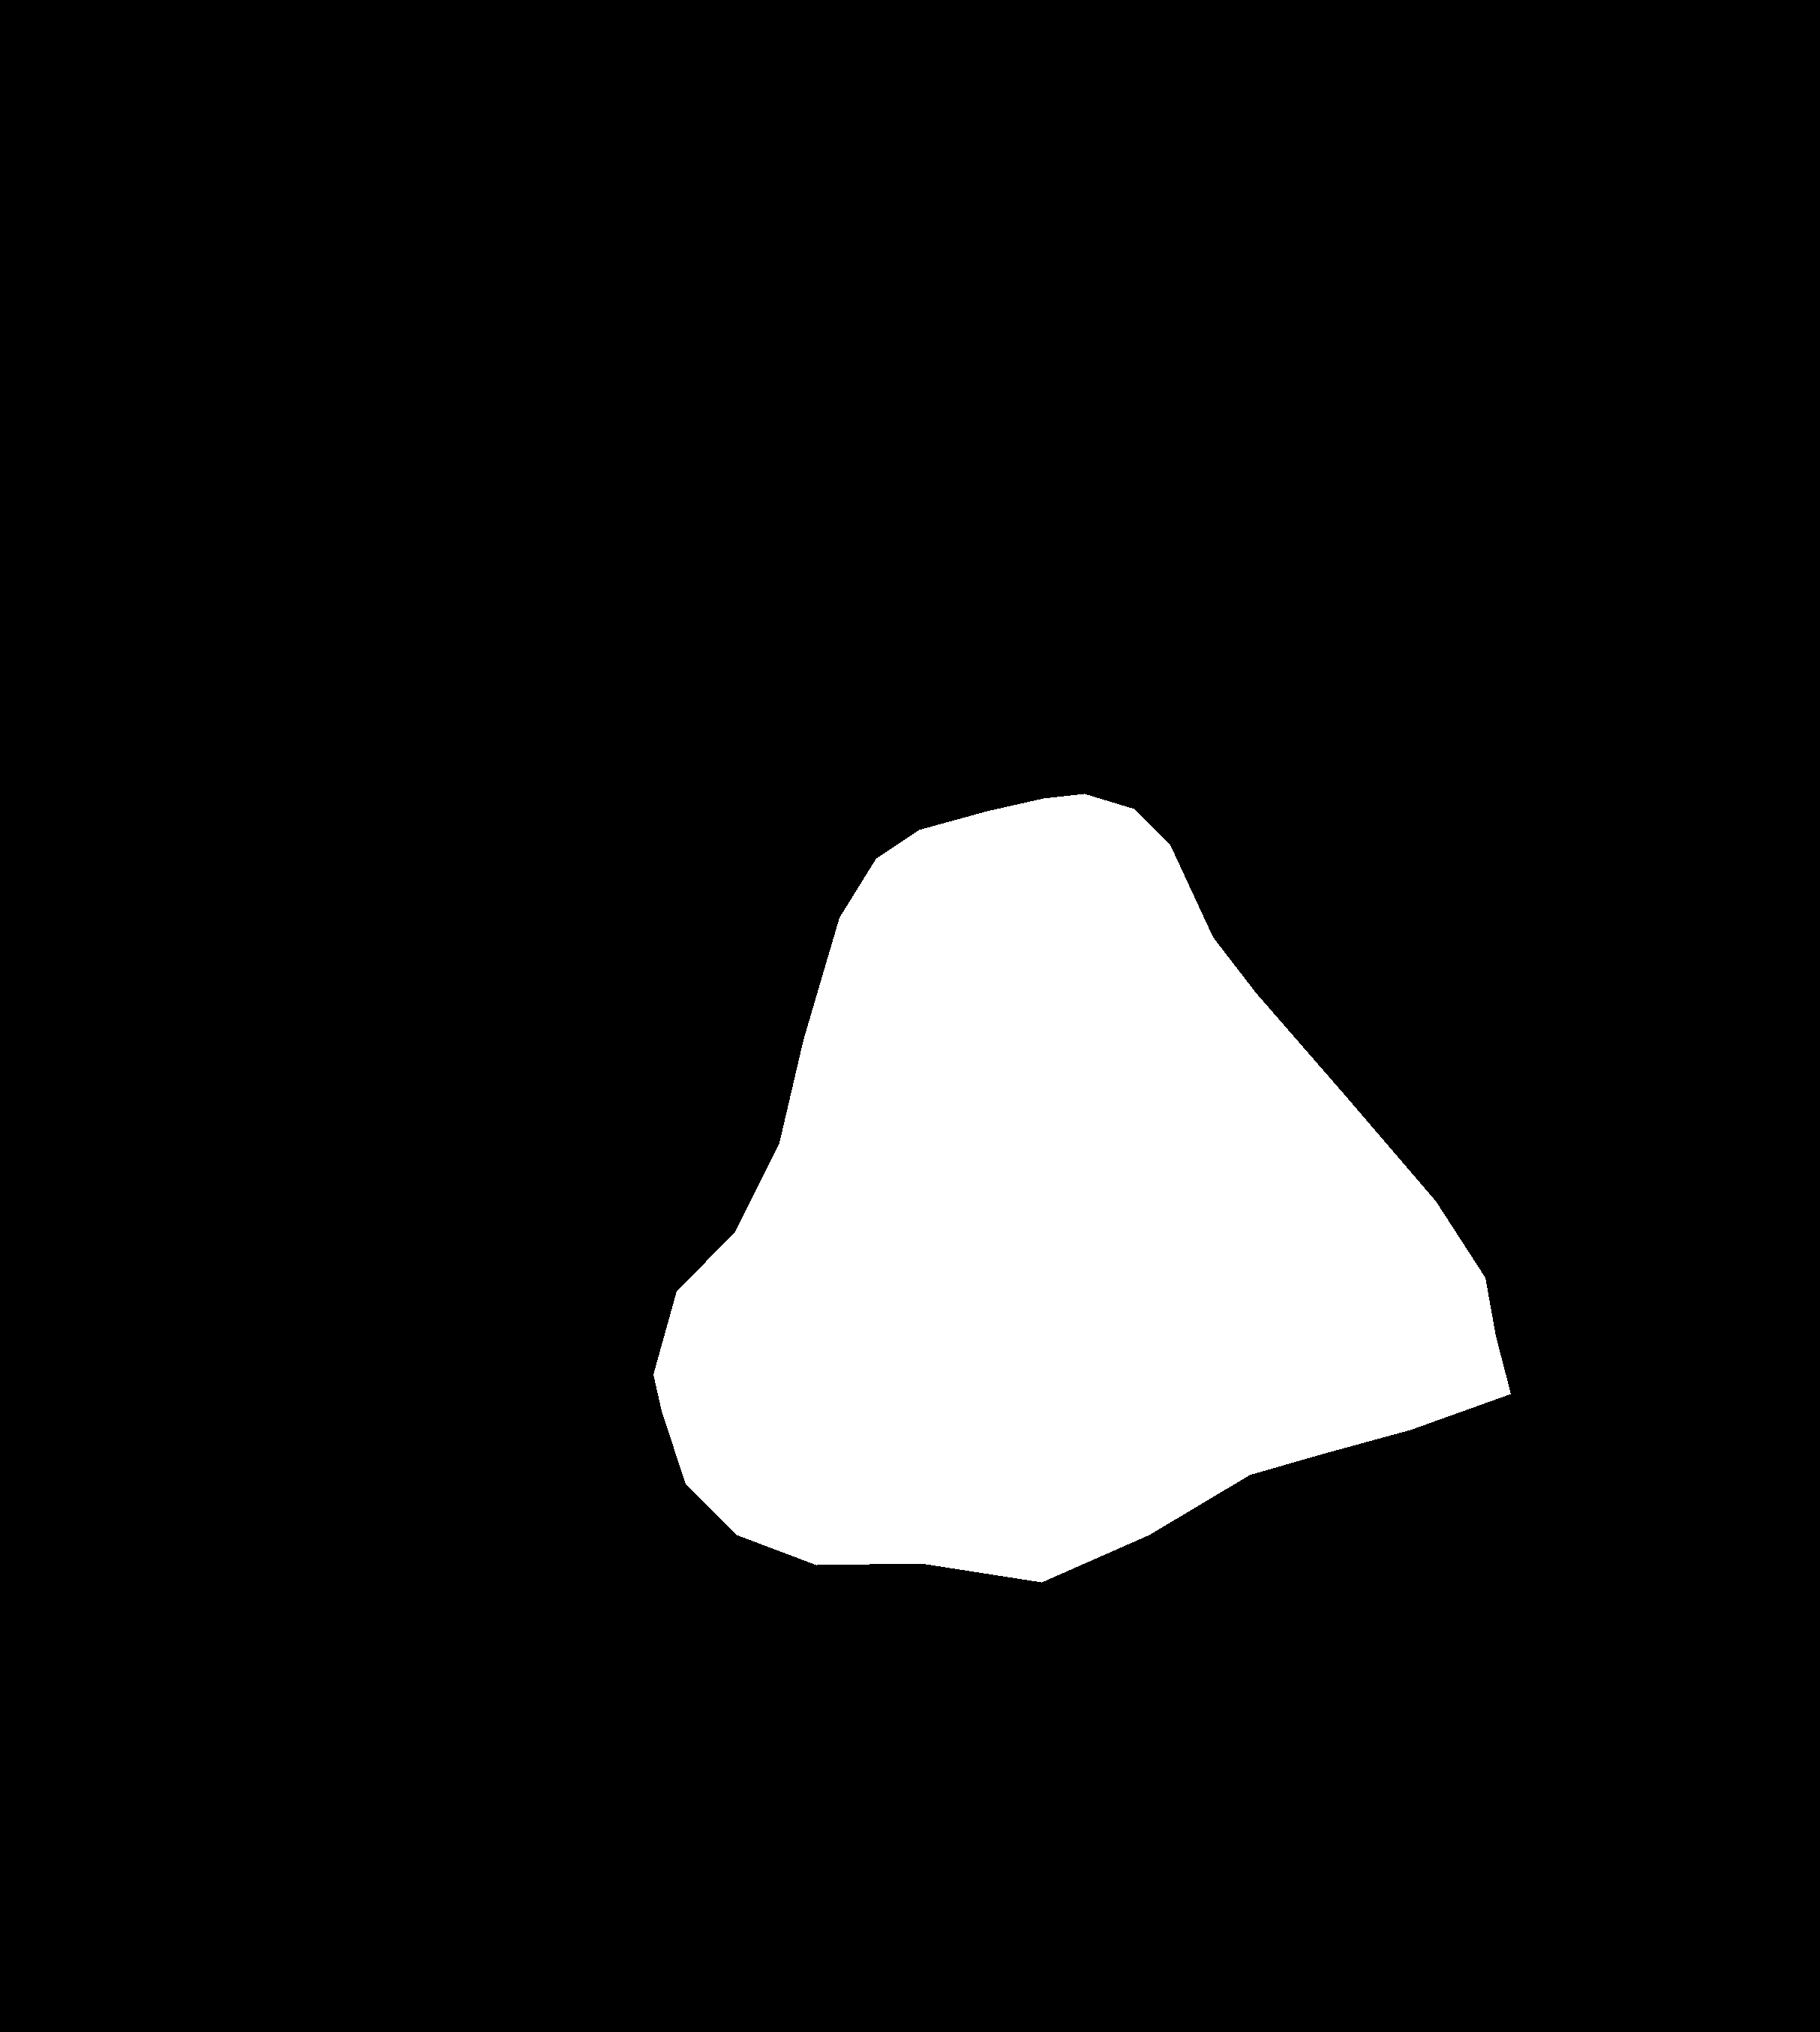heart: (654, 794, 1511, 1582)
left_lung: (97, 202, 877, 1440)
right_lung: (1086, 186, 1748, 1579)
